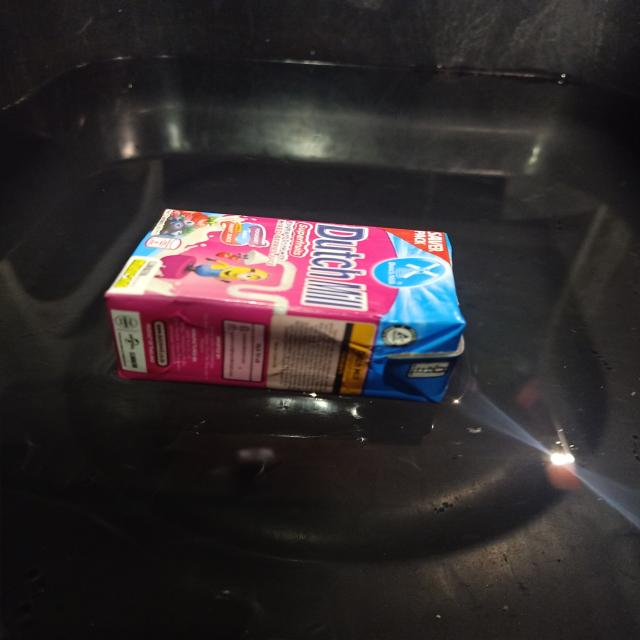Cardboard Box: (101, 210, 462, 402)
